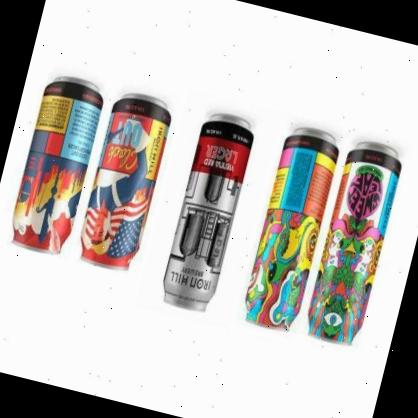can: (238, 125, 346, 340), (302, 139, 406, 348), (157, 110, 259, 320), (4, 71, 109, 264), (74, 88, 176, 277)
